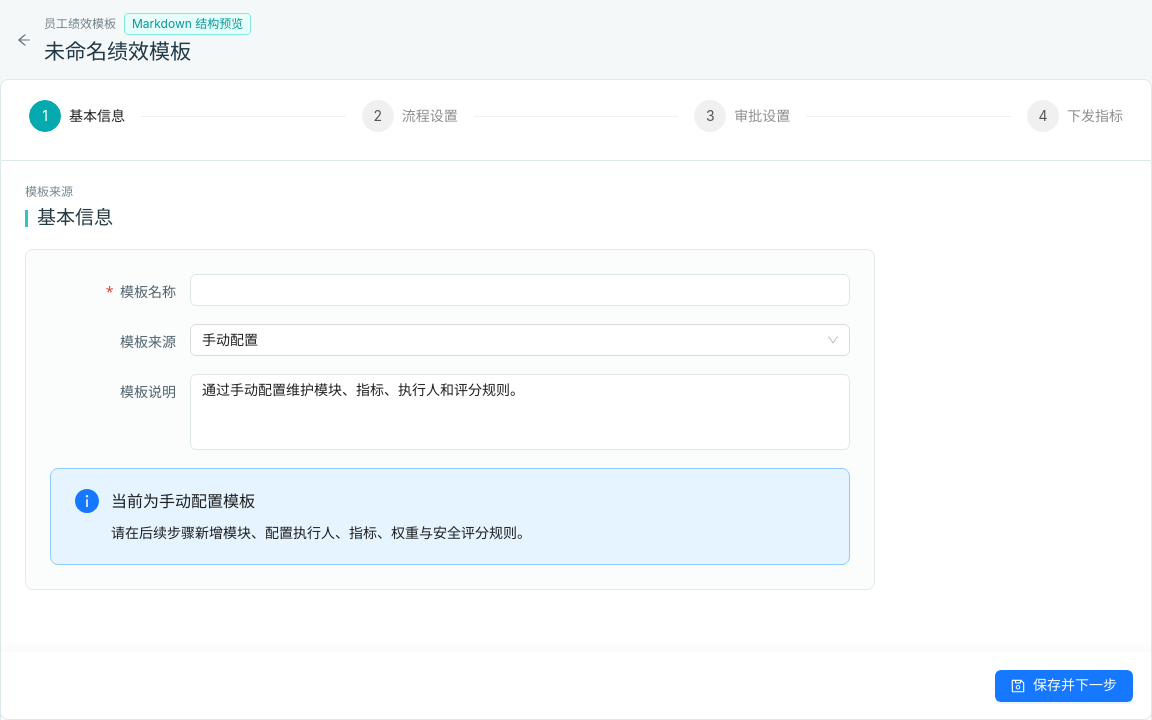
Test case: PerformanceTemplateEditorPage › keeps quantitative assessment in process settings without an executor
Click the text "流程设置" at (438, 116), box [402,100,474,132]
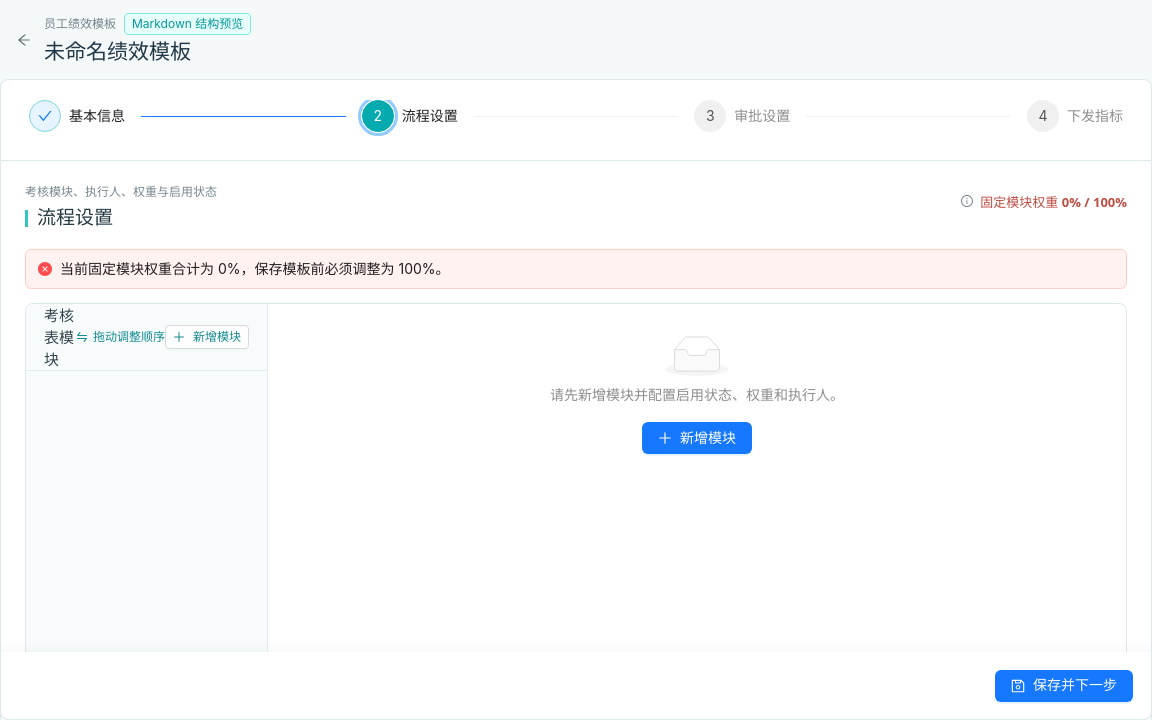
Click the button "新增模块" next to "拖动调整顺序" at (207, 337), box [165,325,249,349]
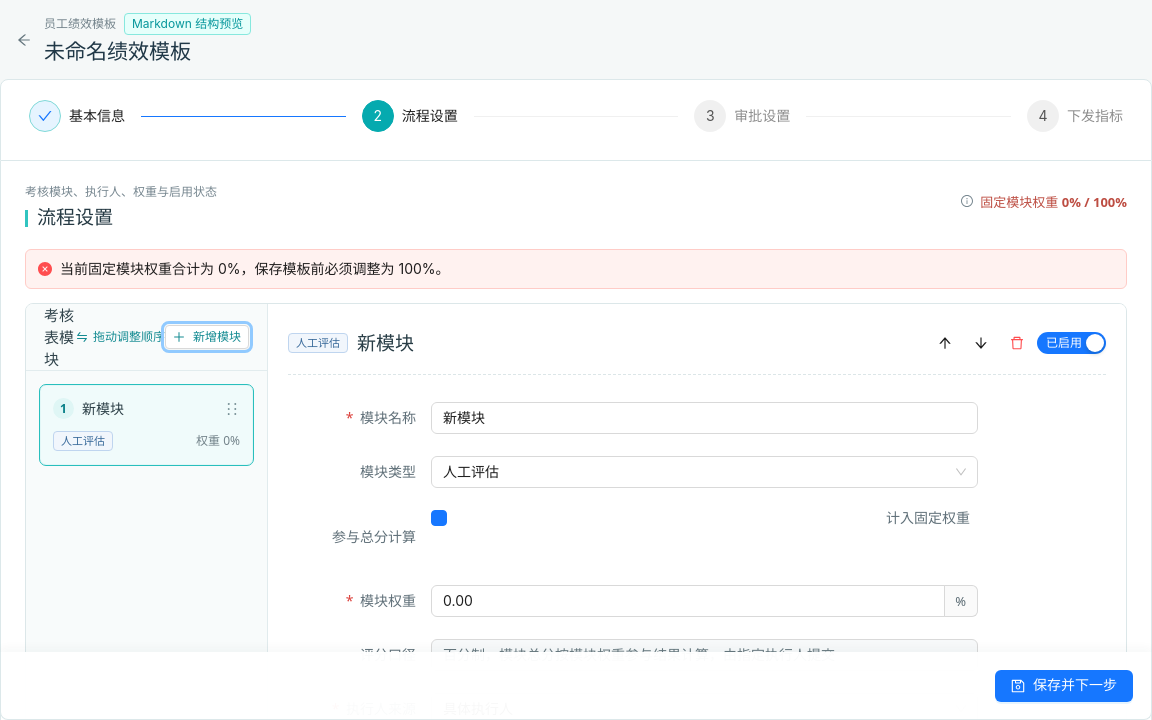
Click the dropdown named "考核模块类型" at (633, 472), box [288,454,978,490]
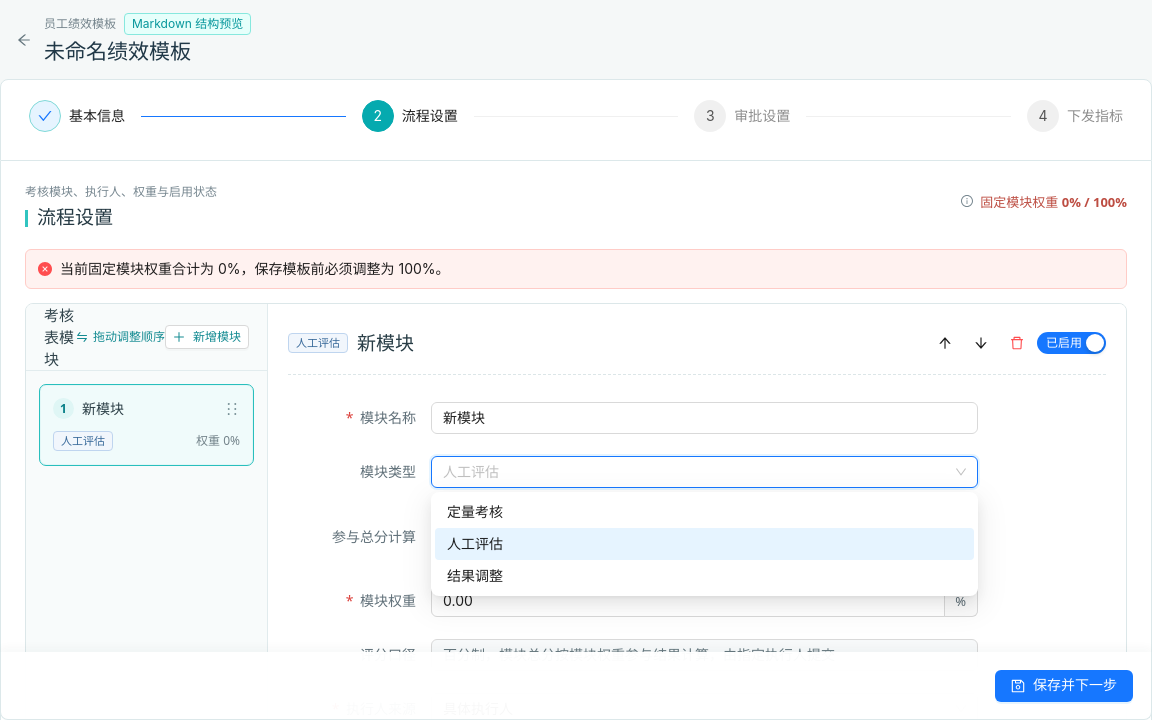
Click the text "定量考核" at (475, 512), box [447,503,503,520]
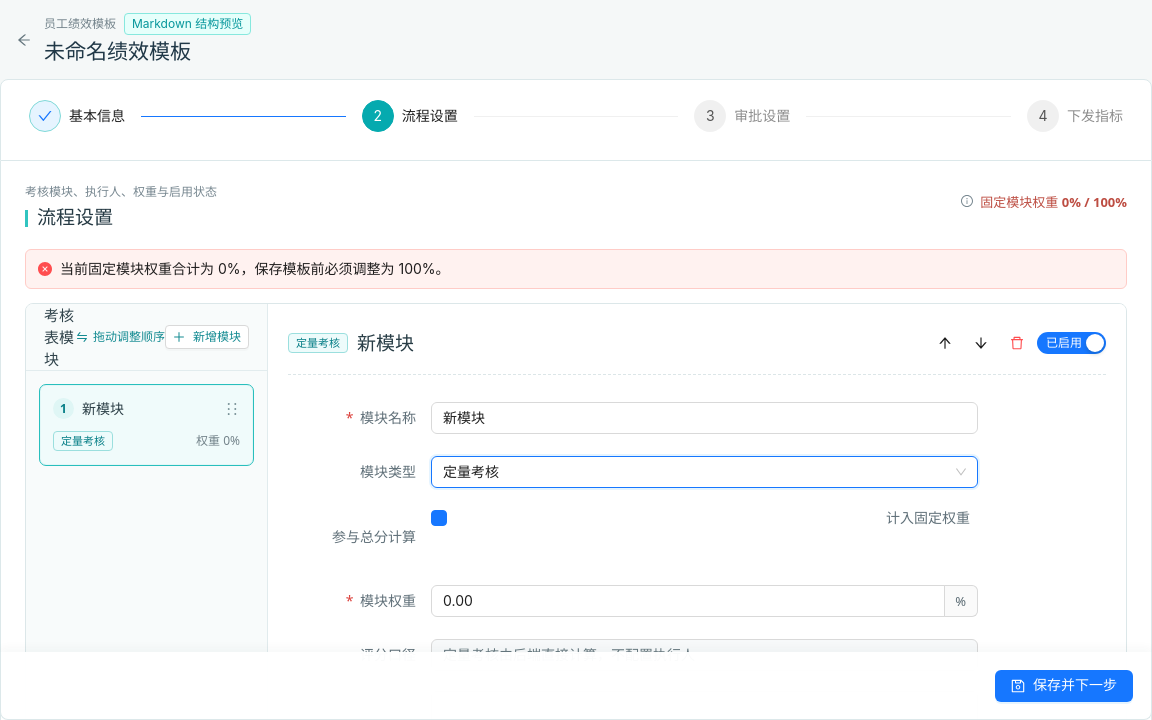
Check: the field showing "定量考核由后端直接计算，不配置执行人" is shown, box [431,639,978,671]
